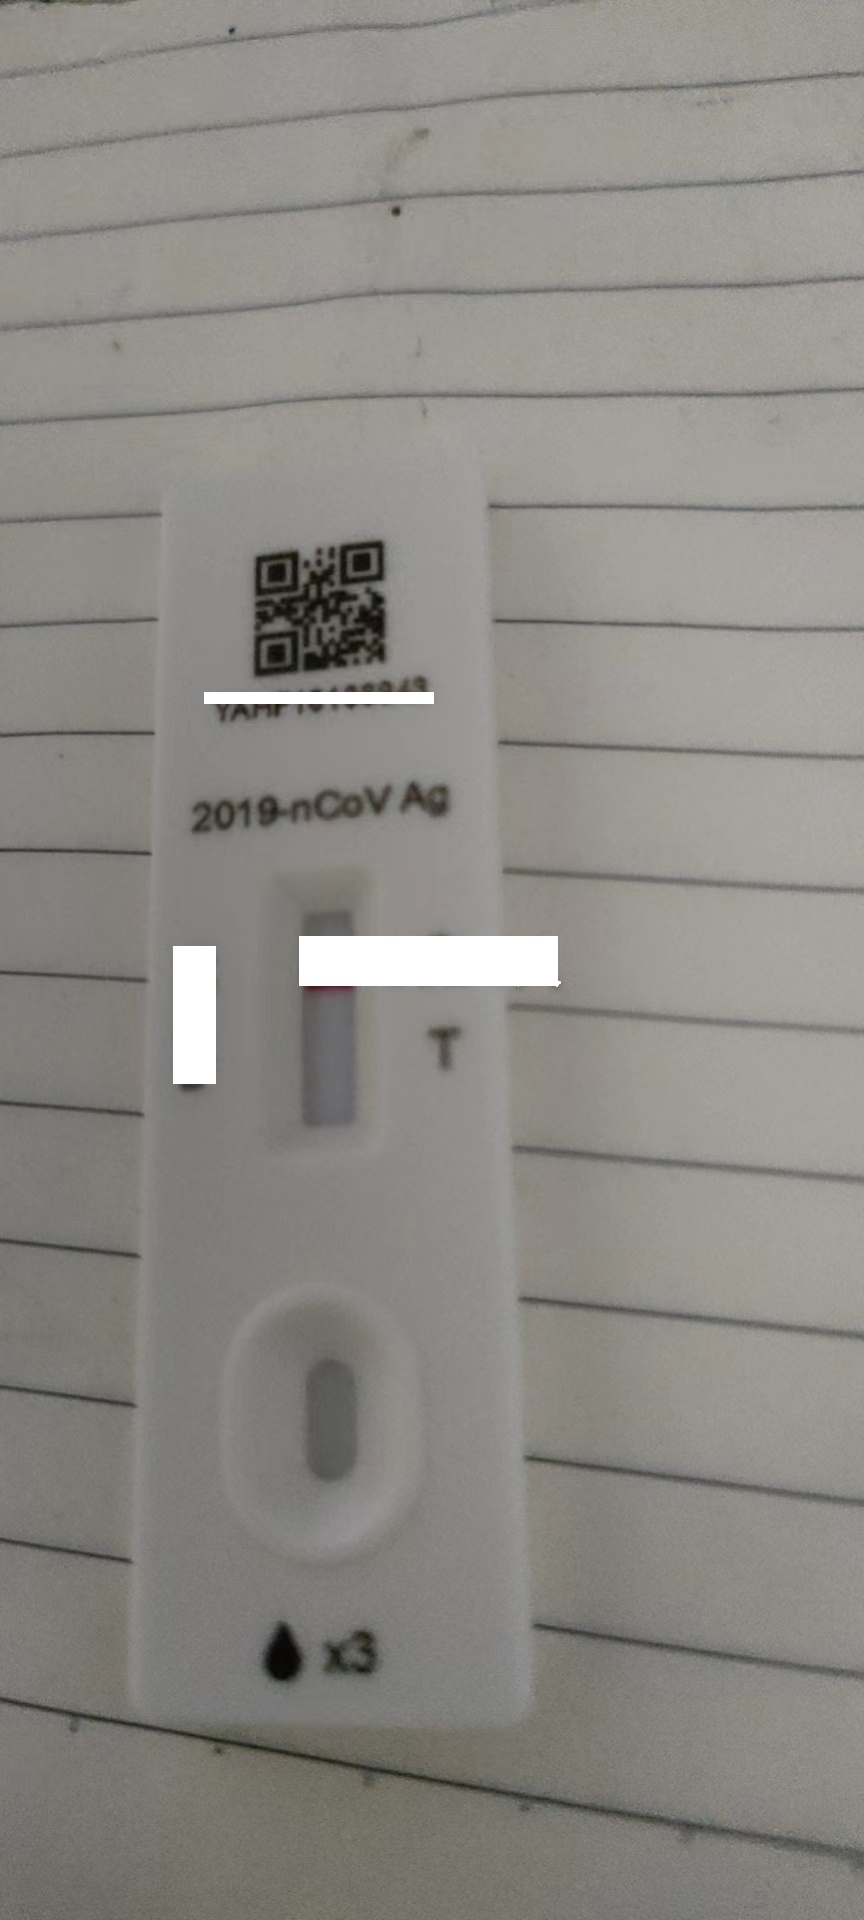negative: (296, 980, 365, 1134)
